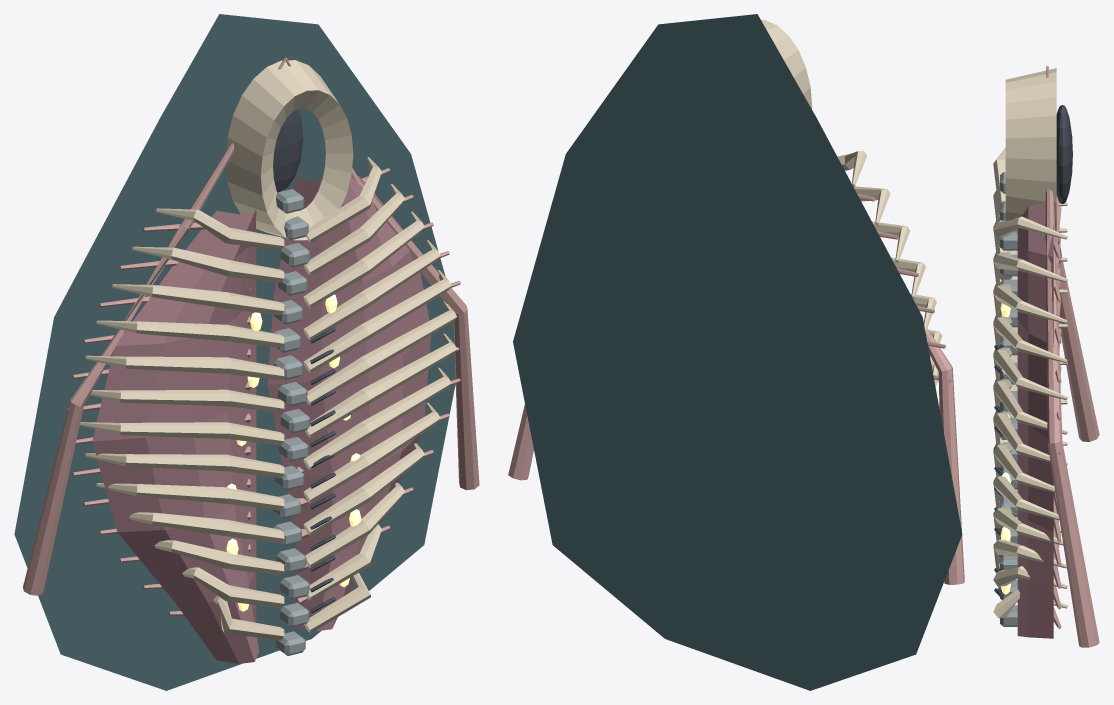
Rendered from witness_relief.glb.
The picture shows the model from 3 angles, left to right: view 1: azimuth 30°, elevation 25°; view 2: azimuth 150°, elevation 25°; view 3: azimuth 270°, elevation 25°; orthographic projection. The views are drawn at different scales.
Visible parts, largest first — view 1: witness_relief_petrol, witness_relief_warm, witness_relief_bruised, witness_relief_suture, witness_relief_worn, witness_relief_deep, witness_relief_sick; view 2: witness_relief_petrol, witness_relief_suture, witness_relief_warm; view 3: witness_relief_warm, witness_relief_bruised, witness_relief_suture, witness_relief_worn, witness_relief_deep, witness_relief_sick.
Boxes of the visible parts, x1,y1,x2,y2 form: witness_relief_petrol: [14, 14, 455, 690]; witness_relief_warm: [80, 60, 456, 640]; witness_relief_bruised: [92, 175, 431, 663]; witness_relief_suture: [23, 57, 479, 615]; witness_relief_worn: [272, 189, 310, 655]; witness_relief_deep: [273, 109, 335, 612]; witness_relief_sick: [226, 294, 361, 611]; witness_relief_petrol: [513, 14, 962, 690]; witness_relief_suture: [508, 194, 964, 584]; witness_relief_warm: [761, 20, 942, 386]; witness_relief_warm: [993, 68, 1067, 618]; witness_relief_bruised: [1017, 203, 1053, 638]; witness_relief_suture: [1045, 65, 1099, 647]; witness_relief_worn: [1000, 172, 1017, 626]; witness_relief_deep: [994, 105, 1072, 597]; witness_relief_sick: [1000, 303, 1010, 594].
Size of the model in its own units: 3.47 by 4.8 by 0.7148.
